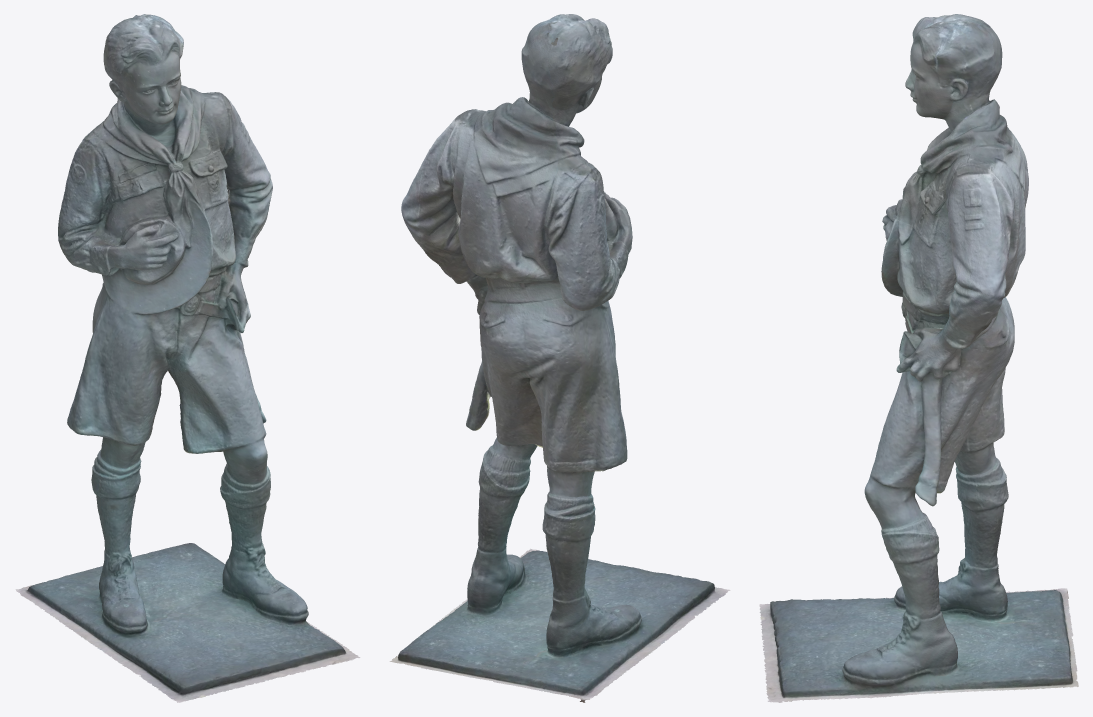
The model's file is scout-transformed.glb.
3 views of the same model, side by side, from view 1: azimuth 30°, elevation 25°; view 2: azimuth 150°, elevation 25°; view 3: azimuth 270°, elevation 25° (orthographic). The views are drawn at different scales.
Visible parts, largest first — view 1: Object_2; view 2: Object_2; view 3: Object_2.
Part boxes in pixels (bbox=[...]): Object_2: bbox=[15, 14, 360, 702]; Object_2: bbox=[389, 14, 730, 702]; Object_2: bbox=[759, 14, 1078, 702].
Bounding box in the file's own units: 0.6894 × 1.83 × 0.8542.
1 material, 1 textured.
